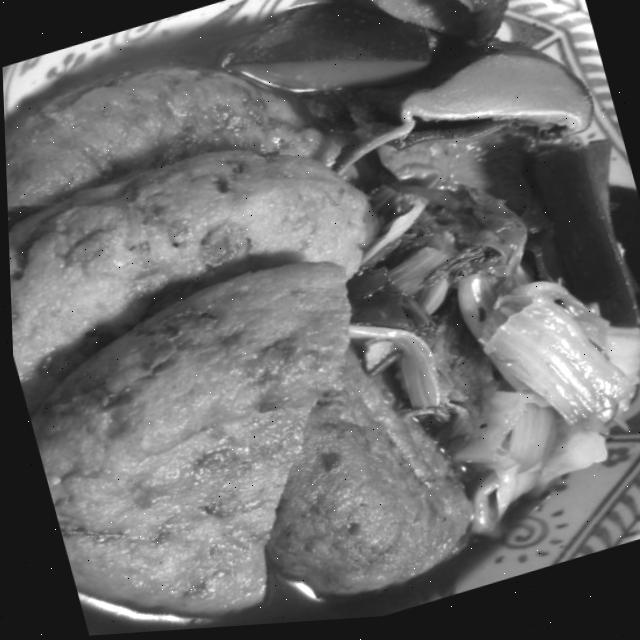熟制海鲜: (0, 0, 487, 640)
